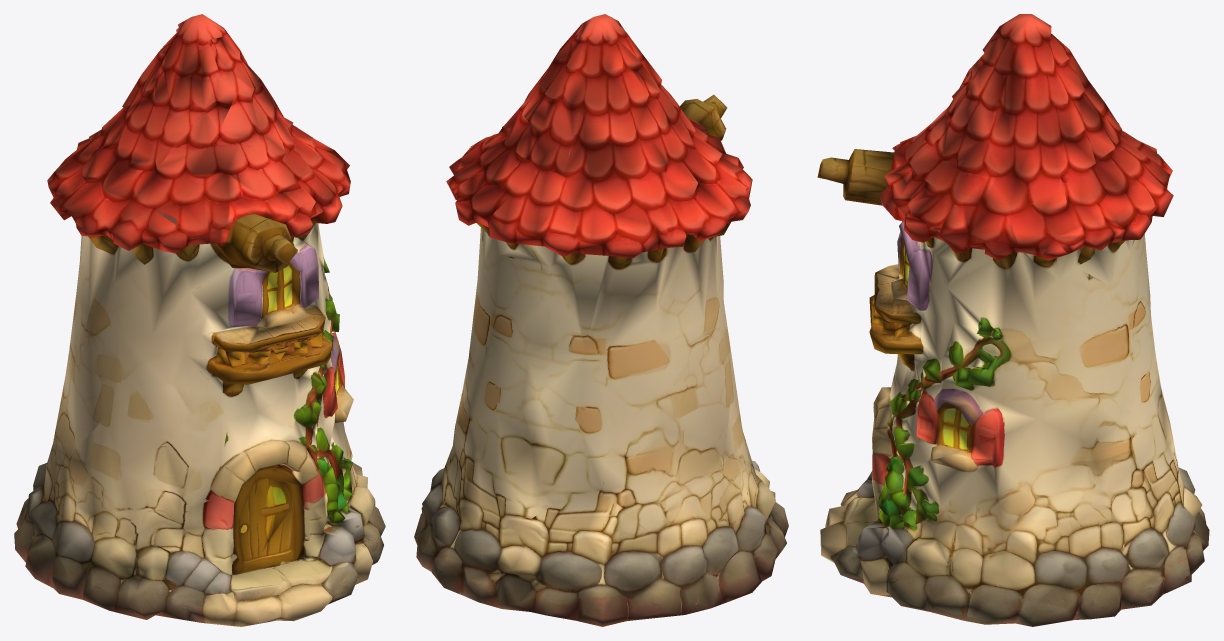
File: windmill2.glb
3 renders of one model, left to right at view 1: azimuth 30°, elevation 25°; view 2: azimuth 150°, elevation 25°; view 3: azimuth 270°, elevation 25°, orthographic.
Bounding box in the file's own units: 1.21 × 1.9 × 1.26.
Materials: 1 (1 with a texture image).
